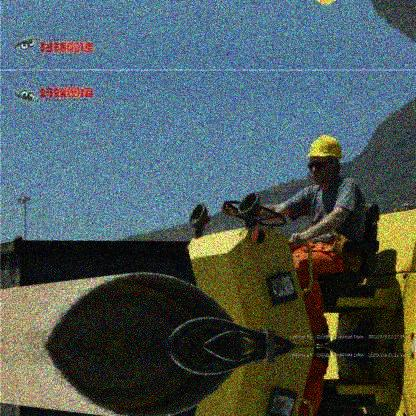helmet: (306, 134, 345, 188)
